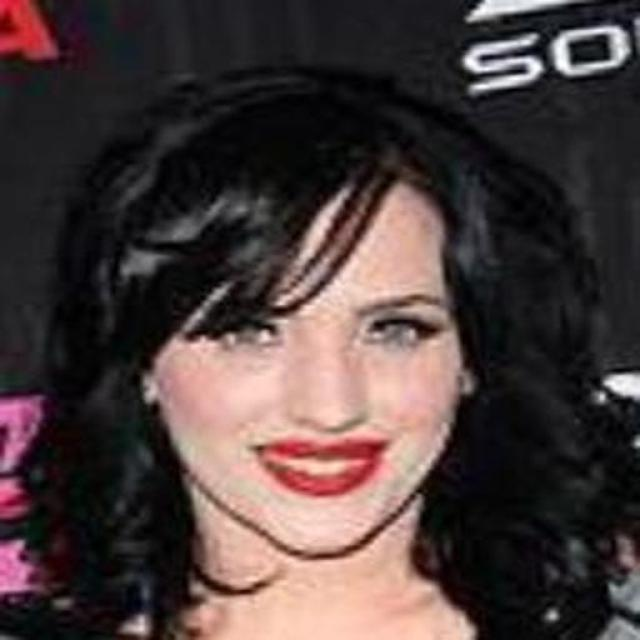bareface: (100, 111, 514, 578)
